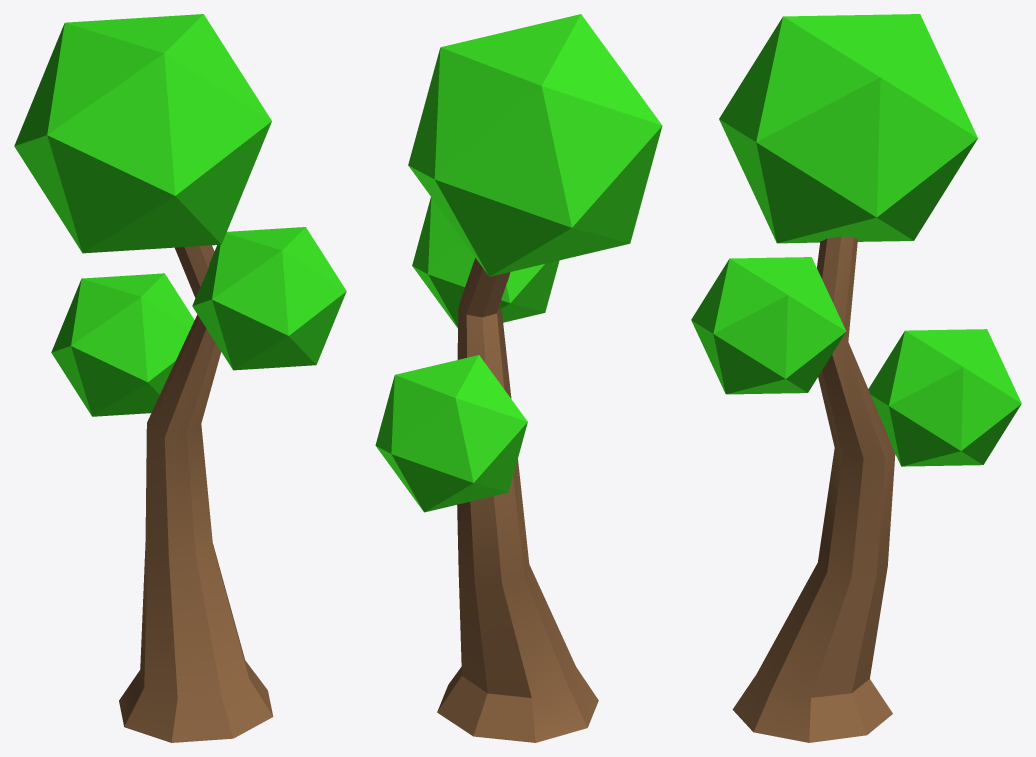
The model's file is tree1.fbx.
The picture shows the model from 3 angles, left to right: view 1: azimuth 30°, elevation 25°; view 2: azimuth 150°, elevation 25°; view 3: azimuth 270°, elevation 25°; orthographic projection. The views are drawn at different scales.
Parts seen in each view (by area): view 1: tree2; view 2: tree2; view 3: tree2.
Boxes of the visible parts, x1=… form: tree2: x1=14, y1=14, x2=346, y2=742; tree2: x1=375, y1=14, x2=662, y2=742; tree2: x1=691, y1=14, x2=1021, y2=742.
Size of the model in its own units: 216 by 535 by 238.
